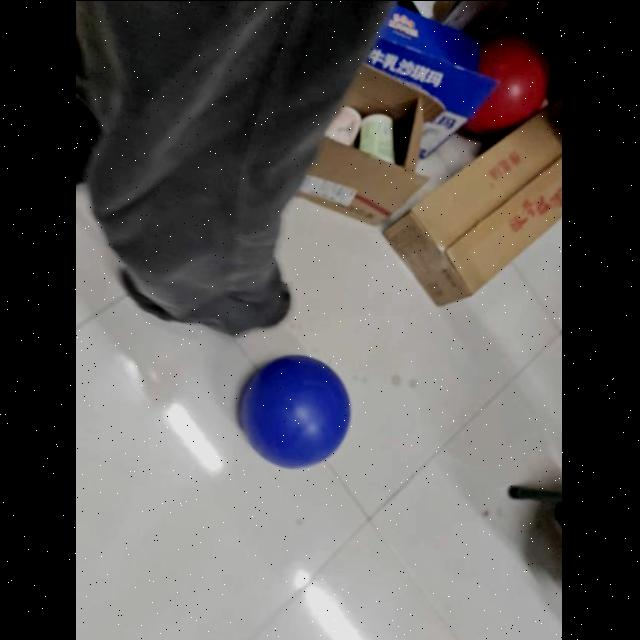B: (234, 352, 354, 470)
R: (466, 31, 549, 133)
